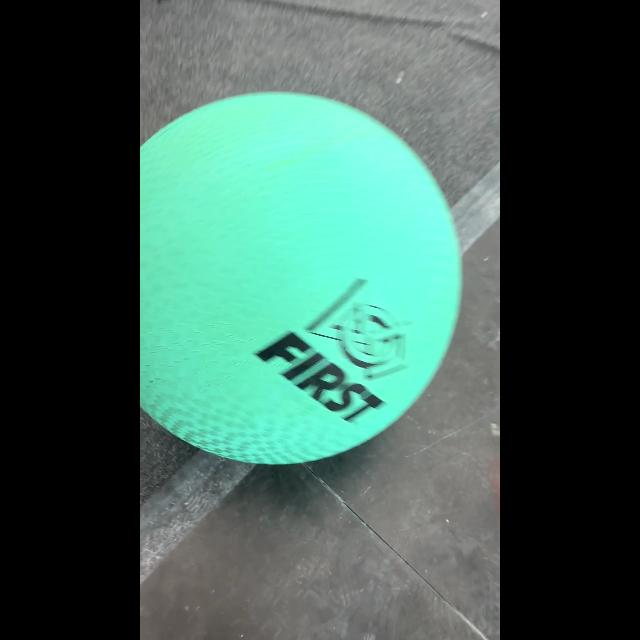ALGAE: (140, 90, 463, 466)
